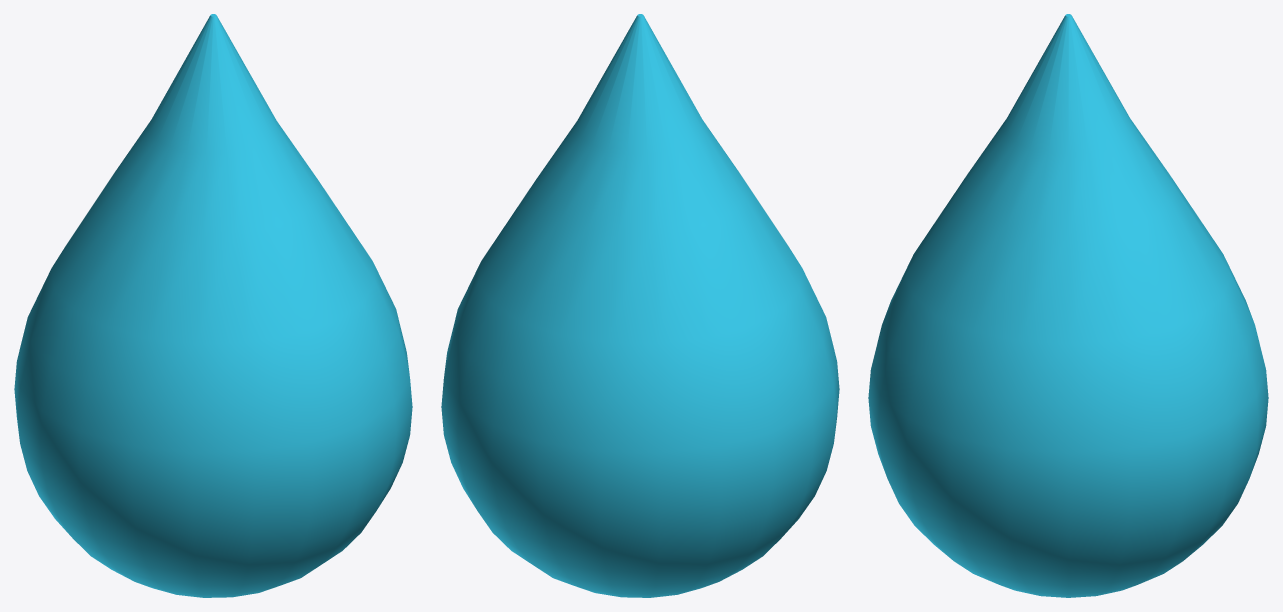
File: water-drop.glb
3 views of the same model, side by side, from view 1: azimuth 30°, elevation 25°; view 2: azimuth 150°, elevation 25°; view 3: azimuth 270°, elevation 25° (orthographic).
Visible parts, largest first — view 1: pSphere4_0; view 2: pSphere4_0; view 3: pSphere4_0.
Boxes of the visible parts, <box> form: pSphere4_0: <box>14,14,412,597</box>; pSphere4_0: <box>441,14,839,597</box>; pSphere4_0: <box>868,14,1268,597</box>.
Bounding box in the file's own units: 2 × 3.11 × 2.
